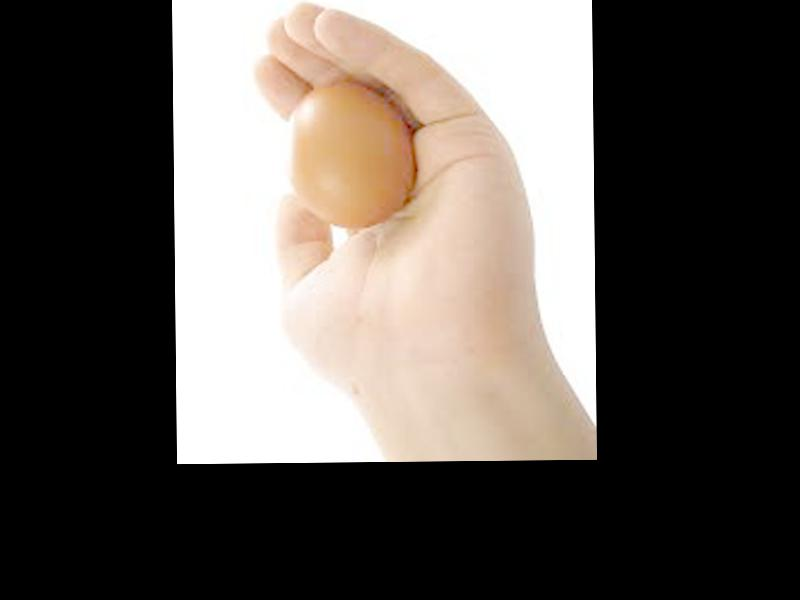Eggs: (287, 71, 412, 230)
